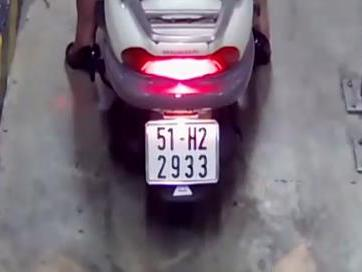num_plate: (144, 120, 221, 185)
